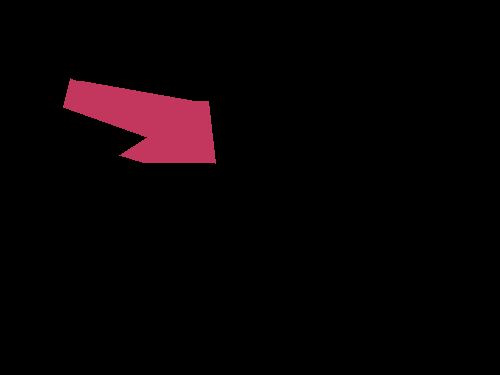Airplane: (63, 78, 216, 164)
